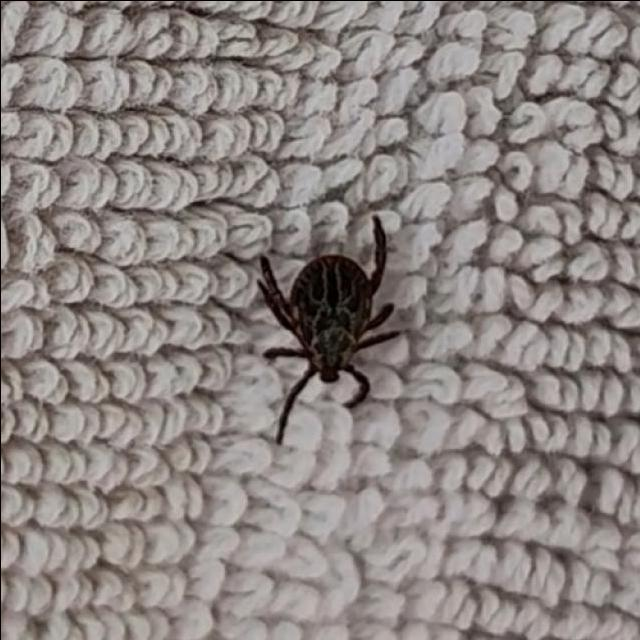Dermacentor Reticulatus-M: (256, 214, 399, 444)
